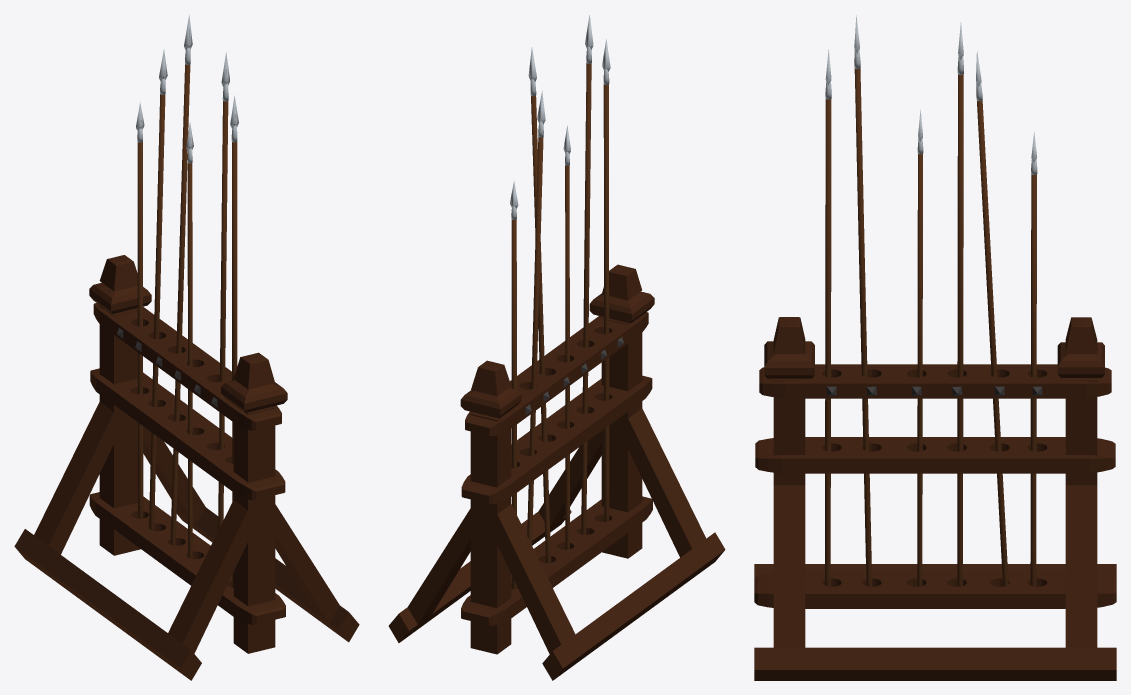
Rendered from Speer Ständer Ver 9.fbx.
The picture shows the model from 3 angles, left to right: view 1: azimuth 30°, elevation 25°; view 2: azimuth 150°, elevation 25°; view 3: azimuth 270°, elevation 25°; orthographic projection. The views are drawn at different scales.
Parts seen in each view (by area): view 1: Speer Ständer Ver 9; view 2: Speer Ständer Ver 9; view 3: Speer Ständer Ver 9.
Part boxes in pixels (<box>): Speer Ständer Ver 9: <box>14,15,359,680</box>; Speer Ständer Ver 9: <box>388,15,725,680</box>; Speer Ständer Ver 9: <box>754,15,1116,680</box>.
Bounding box in the file's own units: 84.24 × 259 × 136.
